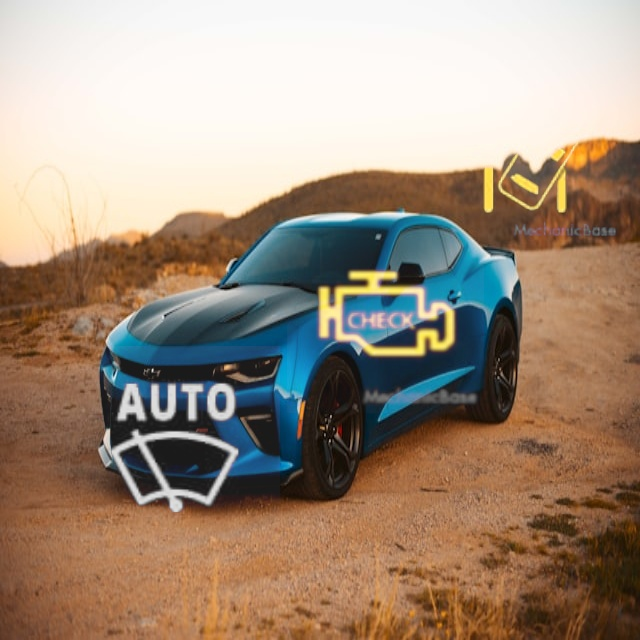symbol: (72, 346, 280, 554), (287, 216, 484, 413), (443, 65, 623, 245)
